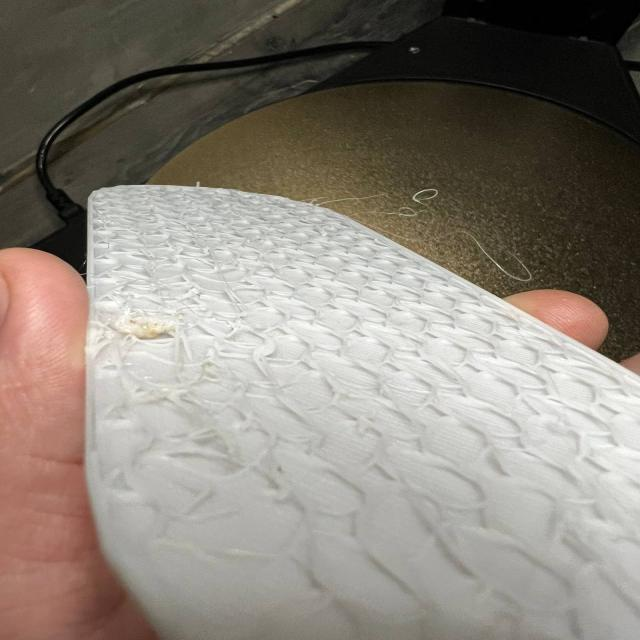blobs: (117, 305, 172, 350)
